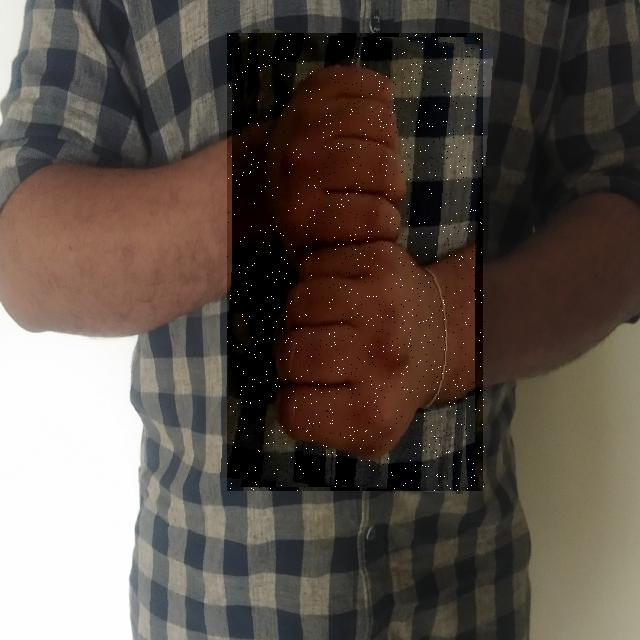G: (228, 33, 486, 491)
